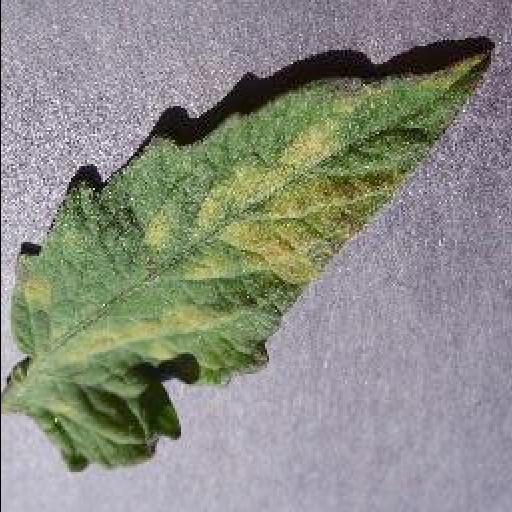disease_tomato: (12, 54, 494, 476)
